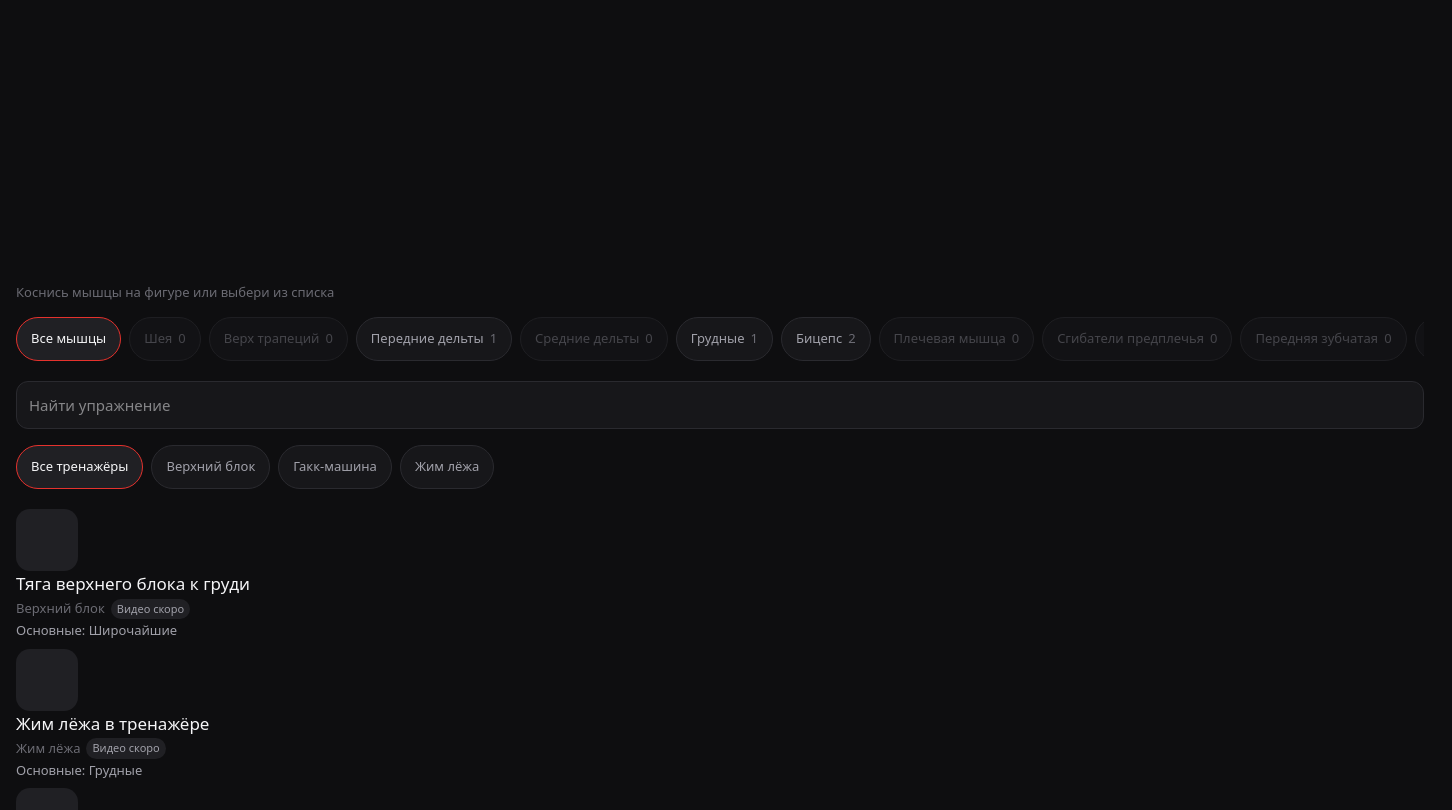
поиск сужает список и счётчики мышц
(page scrolled)
Type "тяга" into the field with placeholder "Найти упражнение" at (720, 405), box [16,381,1424,429]
(page scrolled)
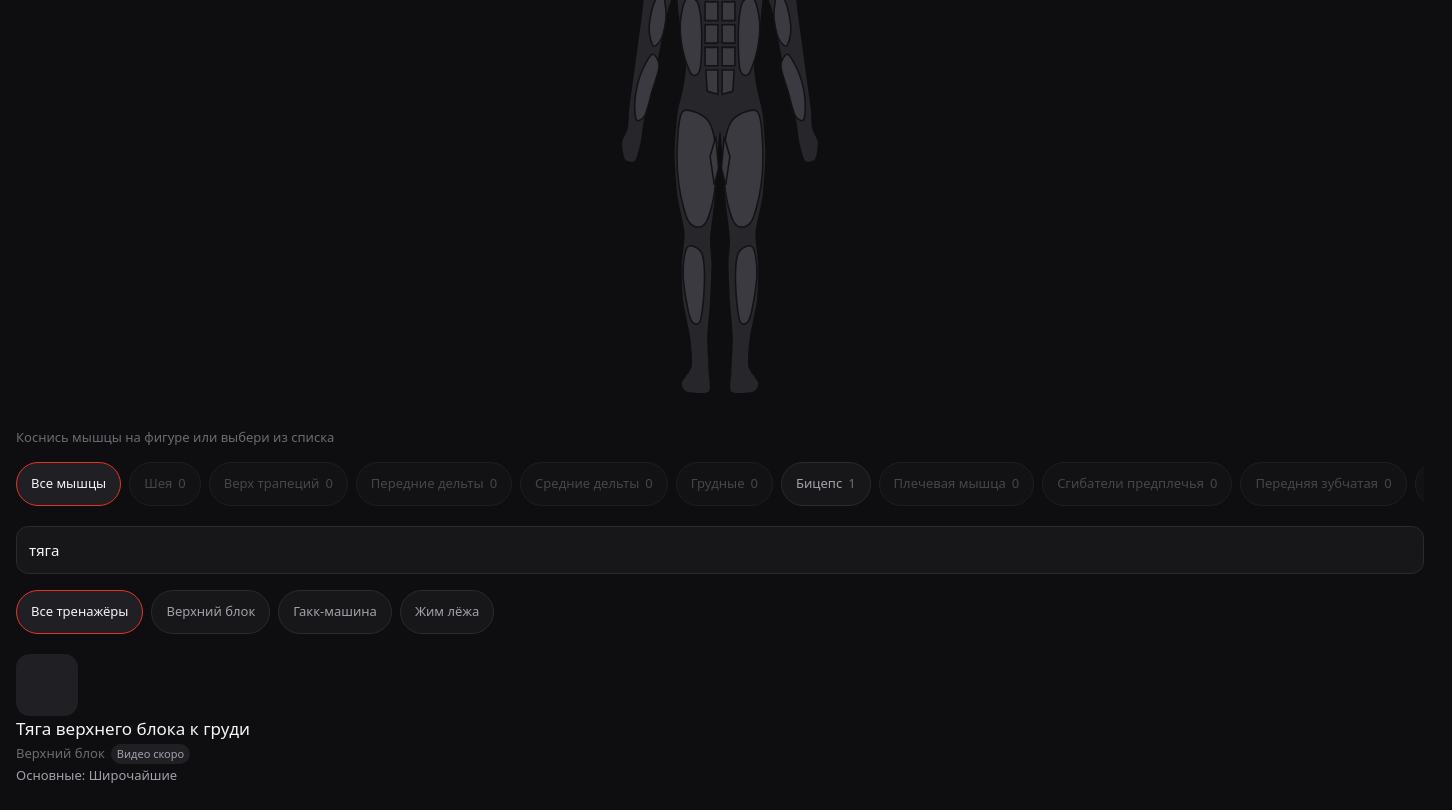
expect the button "Грудные 0" is disabled: met, box [676,462,773,506]
